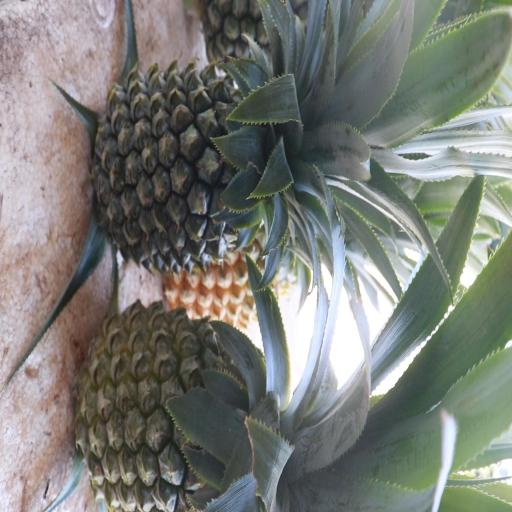------------------------------: (81, 306, 303, 511)
